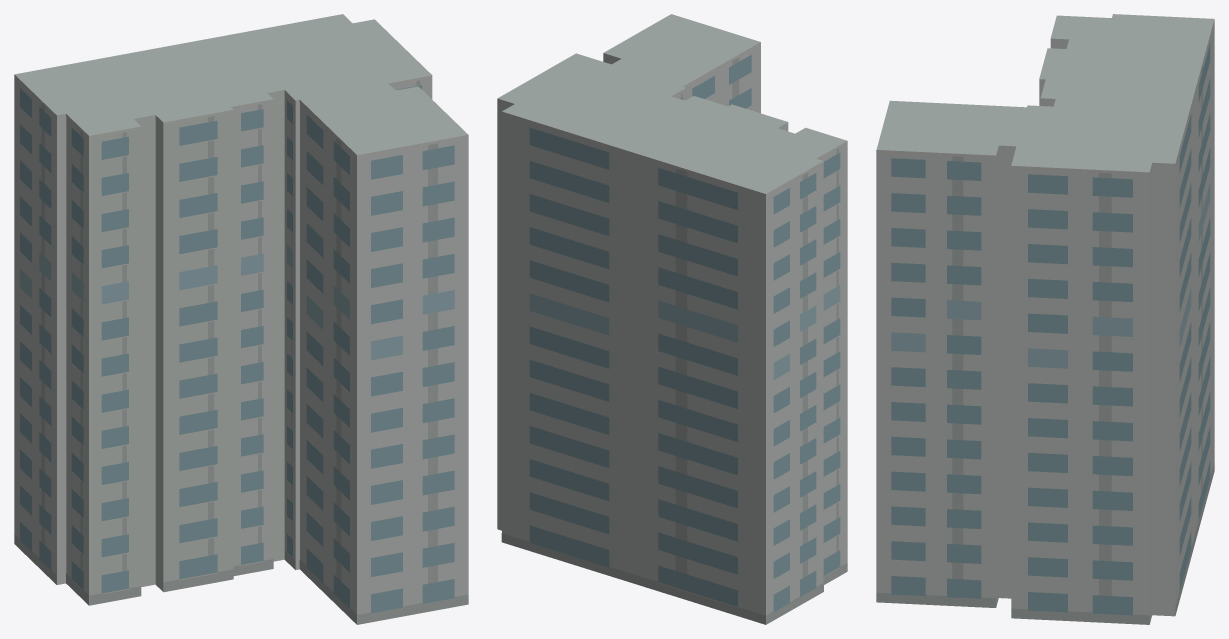
Rendered from survey-upis-32841401.glb.
3 views of the same model, side by side, from view 1: azimuth 30°, elevation 25°; view 2: azimuth 150°, elevation 25°; view 3: azimuth 270°, elevation 25° (orthographic). The views are drawn at different scales.
Visible parts, largest first — view 1: survey-upis-32841401.tmp; view 2: survey-upis-32841401.tmp; view 3: survey-upis-32841401.tmp.
Part boxes in pixels (x1,y1,x2,y2): survey-upis-32841401.tmp: (14, 14, 468, 624); survey-upis-32841401.tmp: (497, 14, 847, 624); survey-upis-32841401.tmp: (876, 14, 1214, 624).
Size of the model in its own units: 29.77 by 39.65 by 26.85.
